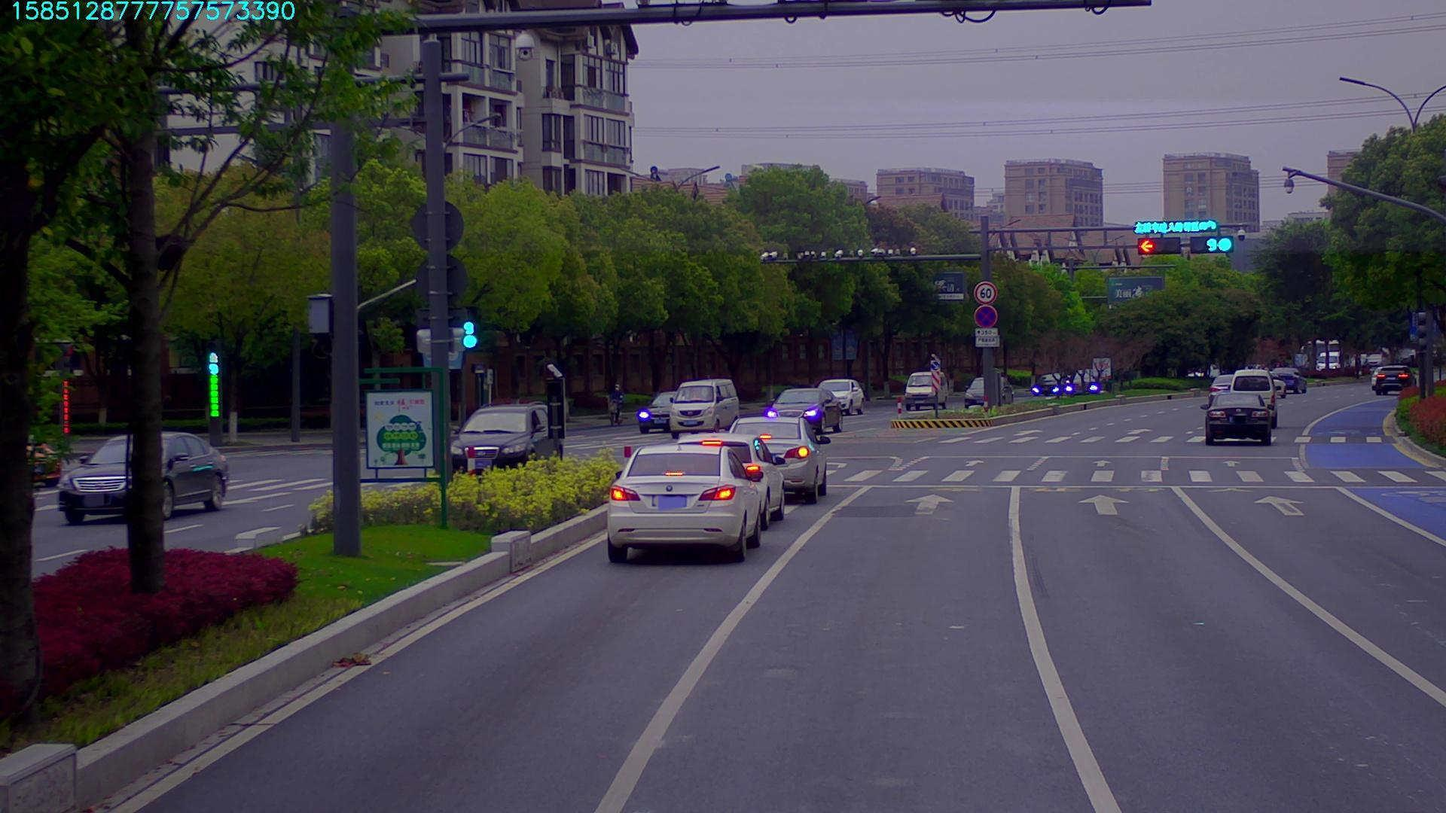green: (1189, 236, 1237, 247)
red: (1134, 237, 1178, 257)
wait_on: (1133, 218, 1223, 229)
